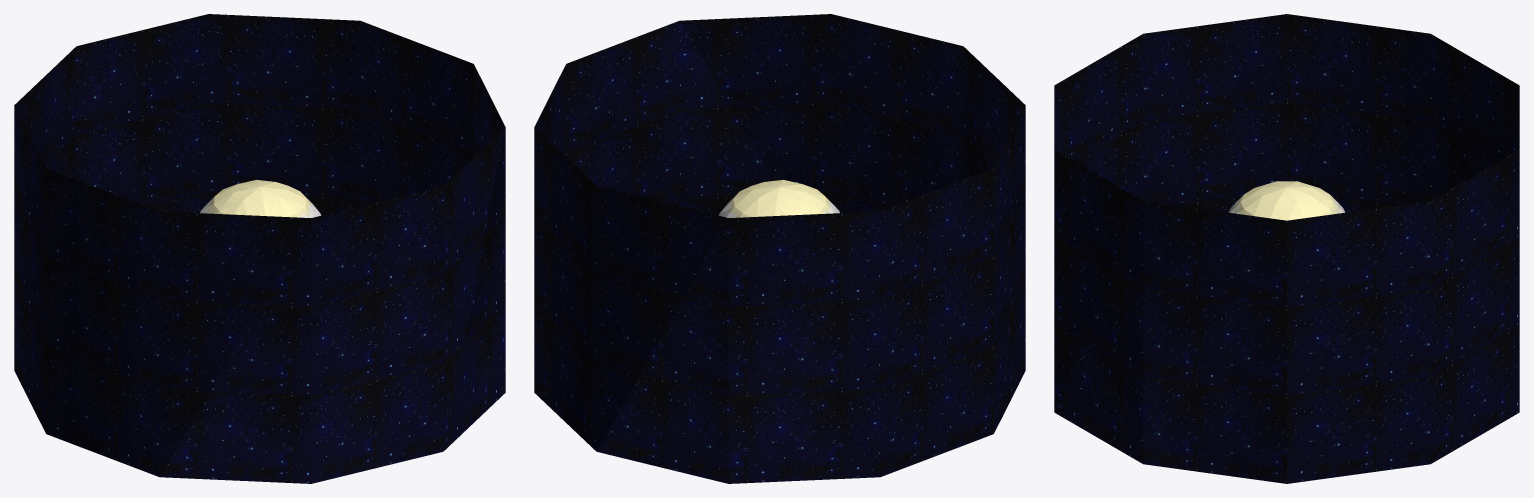
The model's file is Chao Lobby (Version 2).obj.
3 renders of one model, left to right at view 1: azimuth 30°, elevation 25°; view 2: azimuth 150°, elevation 25°; view 3: azimuth 270°, elevation 25°, orthographic.
Parts seen in each view (by area): view 1: Mesh_0062; view 2: Mesh_0062; view 3: Mesh_0062.
Boxes of the visible parts, x1,y1,x2,y2 form: Mesh_0062: (14, 14, 505, 483); Mesh_0062: (534, 14, 1025, 483); Mesh_0062: (1054, 14, 1519, 483).
Bounding box in the file's own units: 120 × 71.29 × 114.
15 materials, 15 textured.
